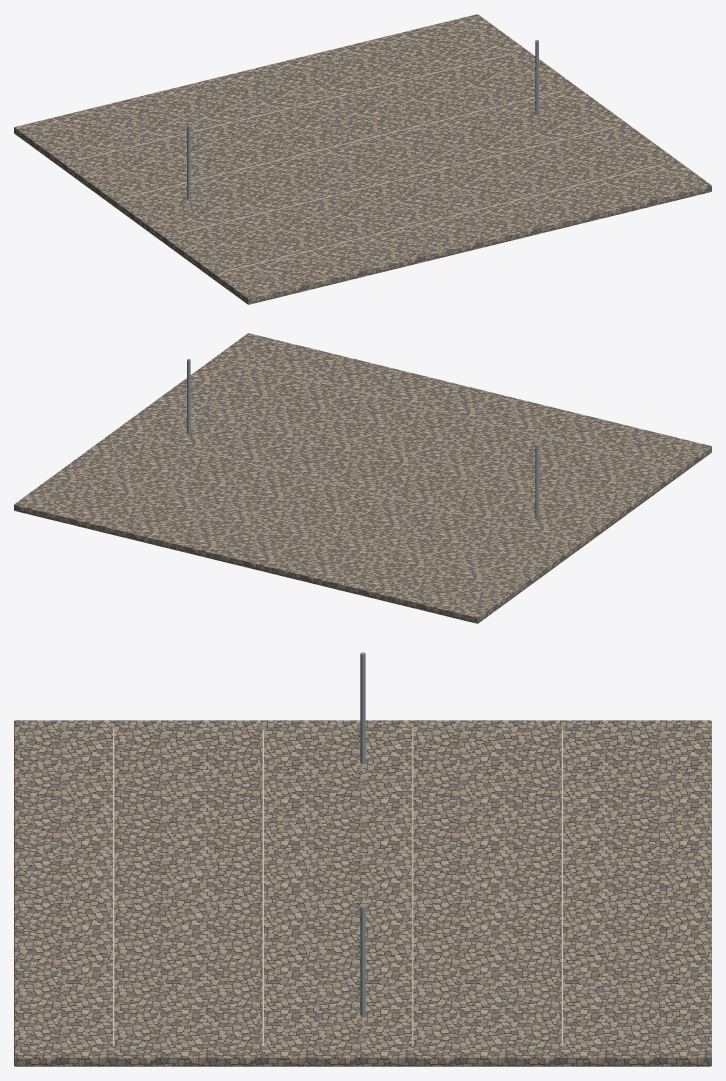
File: local_outside_threshold.glb
3 views of the same model, one above another, from view 1: azimuth 30°, elevation 25°; view 2: azimuth 150°, elevation 25°; view 3: azimuth 270°, elevation 25° (orthographic). The views are drawn at different scales.
Visible parts, largest first — view 1: Runtime_local_outside_threshold; view 2: Runtime_local_outside_threshold; view 3: Runtime_local_outside_threshold.
Part boxes in pixels (x1=…): Runtime_local_outside_threshold: x1=14, y1=14, x2=711, y2=304; Runtime_local_outside_threshold: x1=14, y1=333, x2=711, y2=623; Runtime_local_outside_threshold: x1=14, y1=652, x2=711, y2=1066.
Bounding box in the file's own units: 16 × 2.62 × 14.
Materials: 3 (1 with a texture image).
